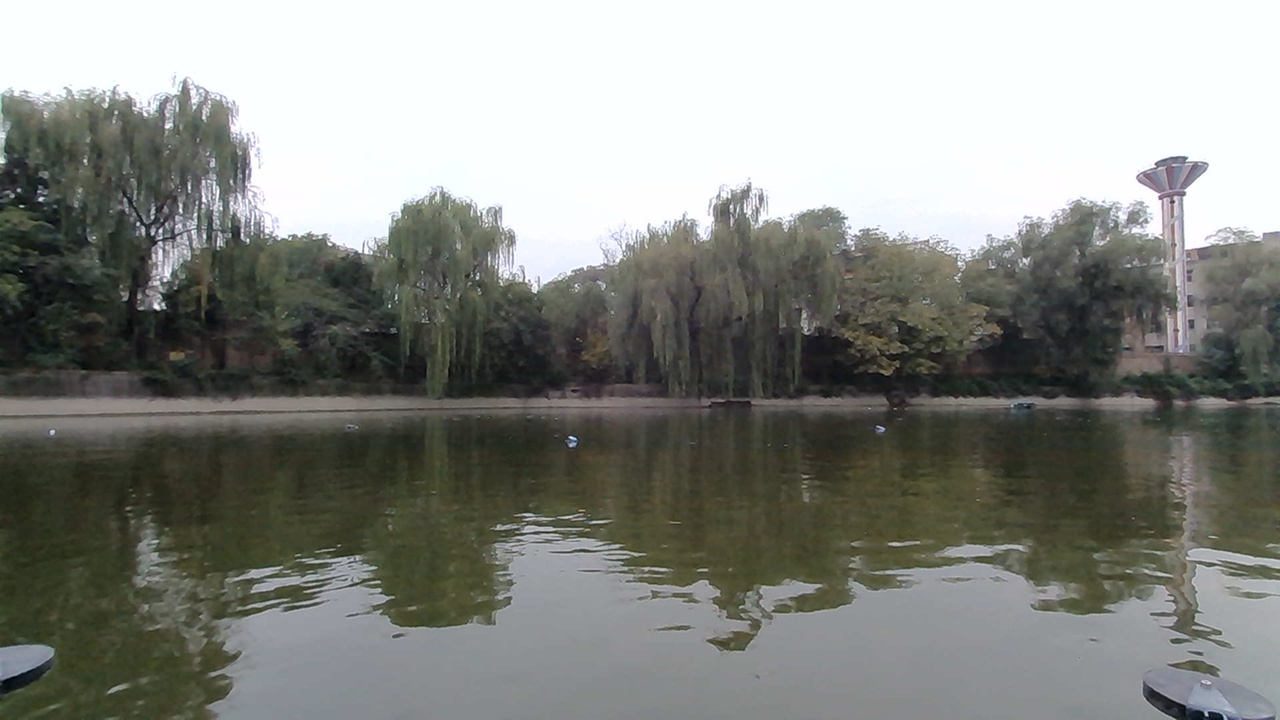bottle: (328, 409, 364, 440), (555, 425, 594, 453), (36, 419, 77, 442), (864, 417, 895, 438)
